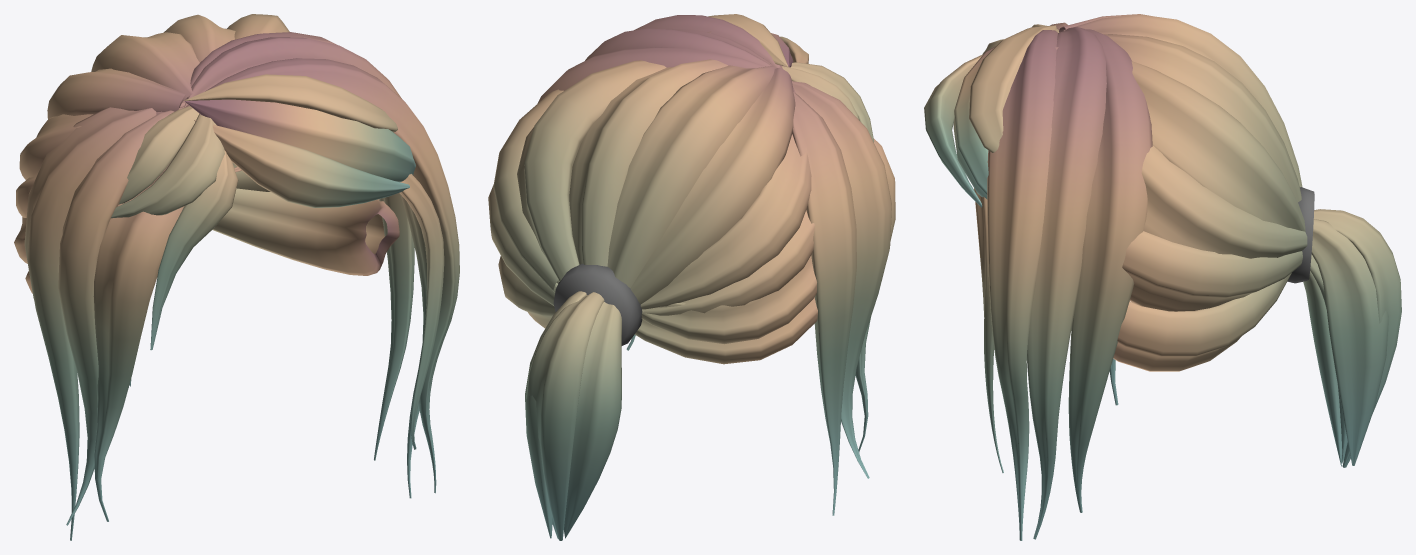
File: haira5.fbx
The picture shows the model from 3 angles, left to right: view 1: azimuth 30°, elevation 25°; view 2: azimuth 150°, elevation 25°; view 3: azimuth 270°, elevation 25°; orthographic projection. The views are drawn at different scales.
Parts seen in each view (by area): view 1: NurbsPath.019; view 2: NurbsPath.019; view 3: NurbsPath.019.
Part boxes in pixels (x1,y1,x2,y2): NurbsPath.019: (14,14,459,540); NurbsPath.019: (488,14,895,540); NurbsPath.019: (924,14,1401,540).
Size of the model in its own units: 348 by 294 by 355.
